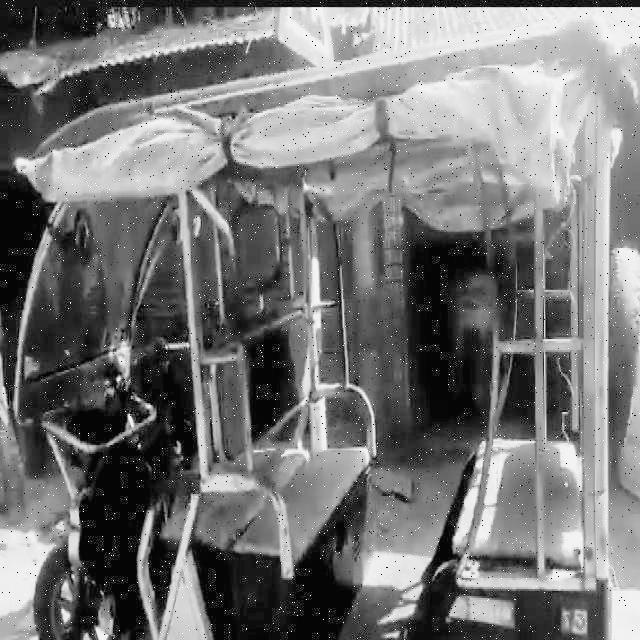Toto: (12, 27, 607, 640)
